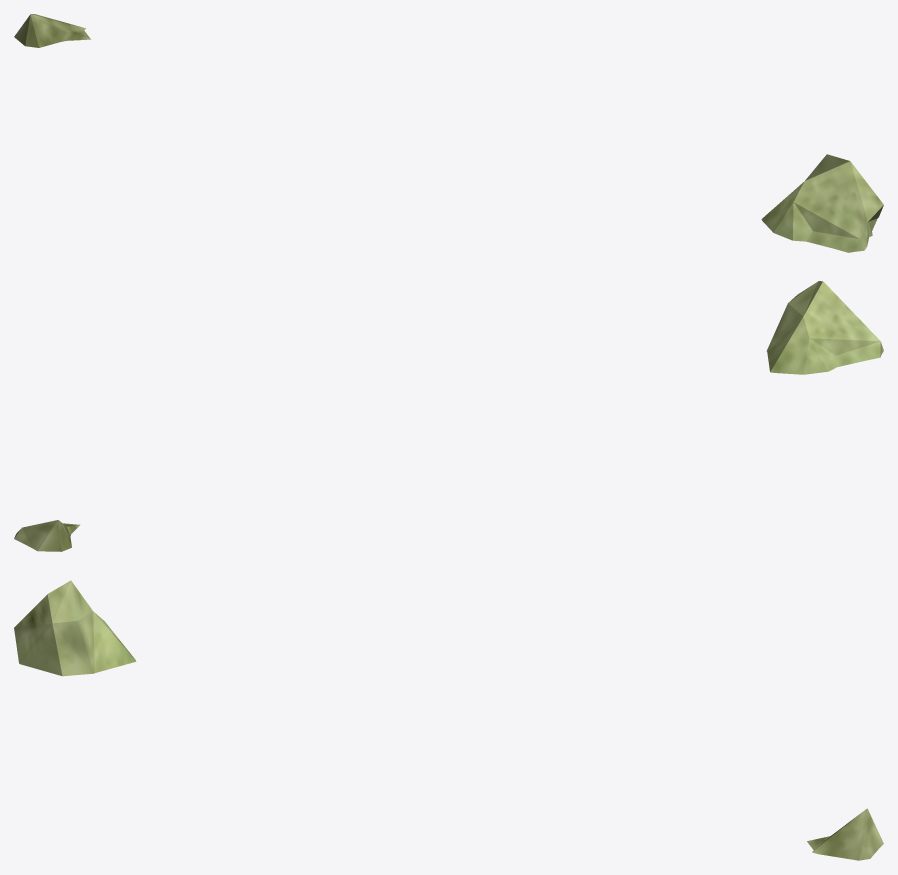
3 views of the same model, one above another, from view 1: azimuth 90°, elevation 25°; view 2: azimuth 150°, elevation 25°; view 3: azimuth 270°, elevation 25° (orthographic).
Bounding box in the file's own units: 5.32 × 0.7799 × 8.4.
1 material, 1 textured.
